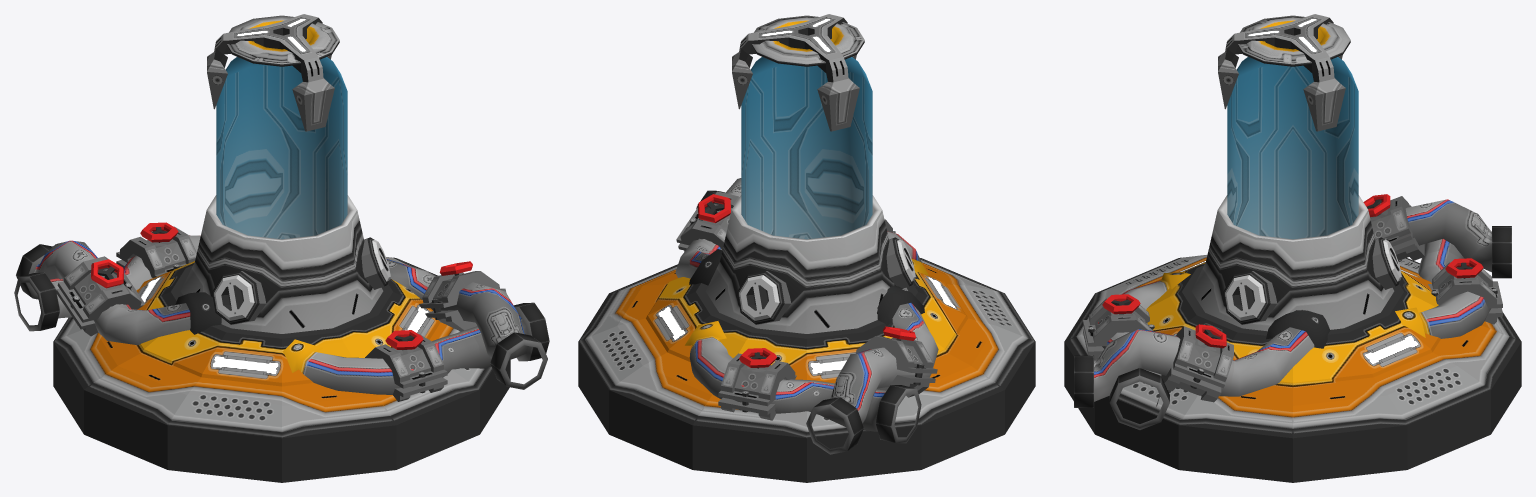
File: flotation-cell-1.glb
3 renders of one model, left to right at view 1: azimuth 30°, elevation 25°; view 2: azimuth 150°, elevation 25°; view 3: azimuth 270°, elevation 25°, orthographic.
Visible parts, largest first — view 1: Cylinder; view 2: Cylinder; view 3: Cylinder.
Boxes of the visible parts, x1=… form: Cylinder: x1=14, y1=14, x2=549, y2=482; Cylinder: x1=578, y1=14, x2=1035, y2=482; Cylinder: x1=1064, y1=14, x2=1521, y2=482.
Bounding box in the file's own units: 44.78 × 38.33 × 44.78.
Materials: 1 (1 with a texture image).
